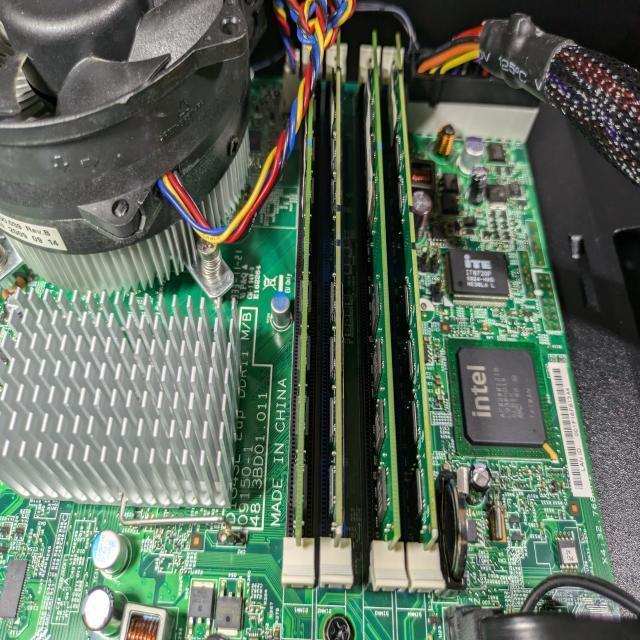CPU_Fan: (0, 0, 251, 296)
Mainboard: (0, 141, 622, 639)
RAM: (380, 46, 446, 595), (356, 46, 409, 593), (280, 38, 319, 586), (318, 32, 348, 586)
